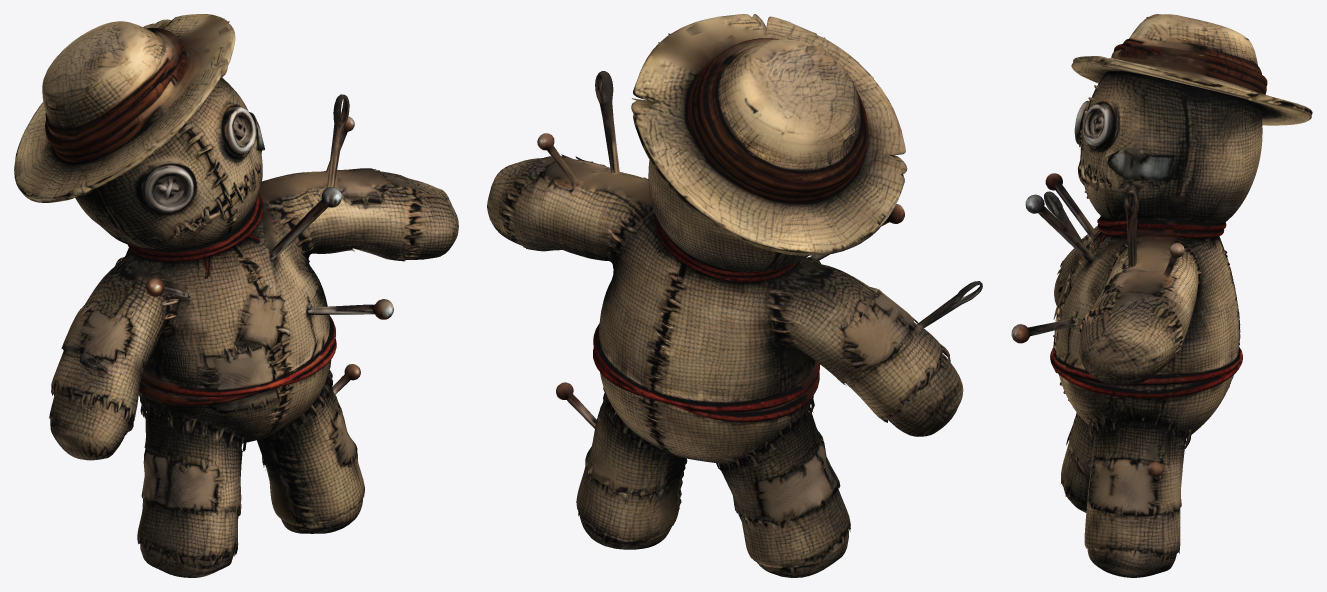
Rendered from doll.glb.
The picture shows the model from 3 angles, left to right: view 1: azimuth 30°, elevation 25°; view 2: azimuth 150°, elevation 25°; view 3: azimuth 270°, elevation 25°; orthographic projection. The views are drawn at different scales.
Parts seen in each view (by area): view 1: material; view 2: material; view 3: material.
Part boxes in pixels (x1=…): material: x1=14, y1=14, x2=458, y2=577; material: x1=487, y1=14, x2=982, y2=577; material: x1=1011, y1=14, x2=1312, y2=577.
Bounding box in the file's own units: 0.9271 × 1.11 × 0.6332.
1 material, 1 textured.
